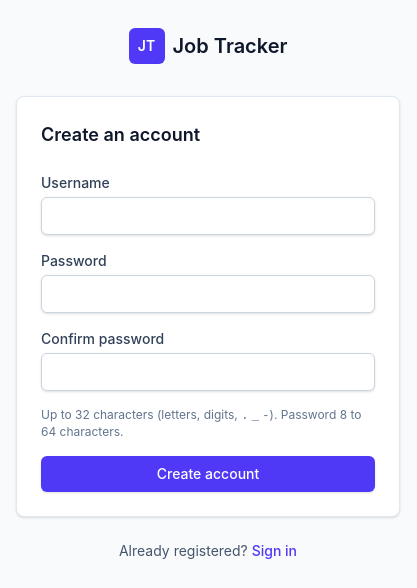
it: RegisterPage › rejects  / password123 / password123 before sending: Username is required.
Type "password123" into the password field labelled "Password".
click(208, 294); type("password123")  # box [41,274,375,312]
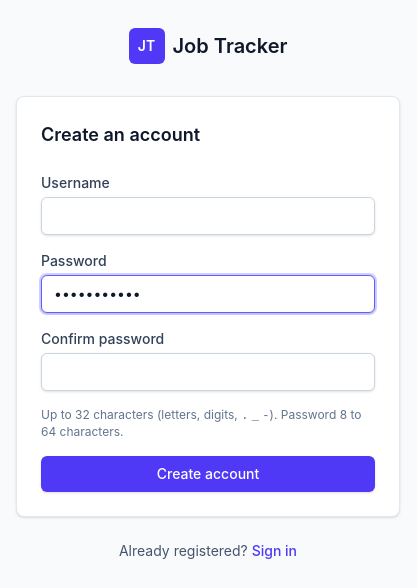
Type "password123" into the password field labelled "Confirm password".
click(208, 372); type("password123")  # box [41,352,375,390]
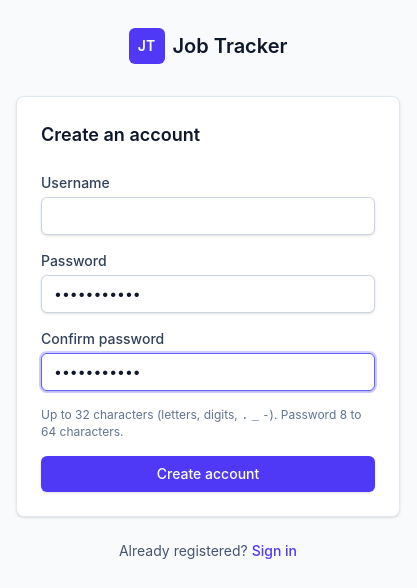
Click the button "Create account".
click(208, 474)  # box [41,456,375,492]
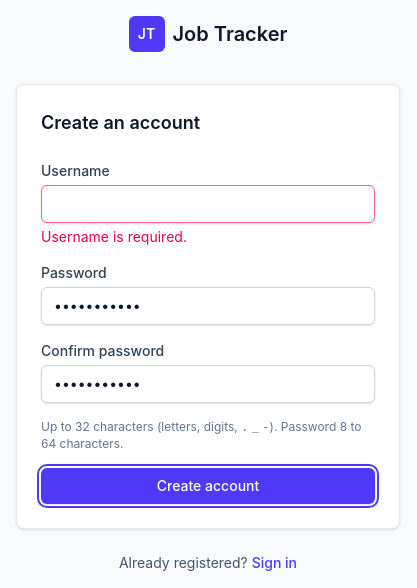
Result: the text "Username is required." is shown at [41,228,187,244]
